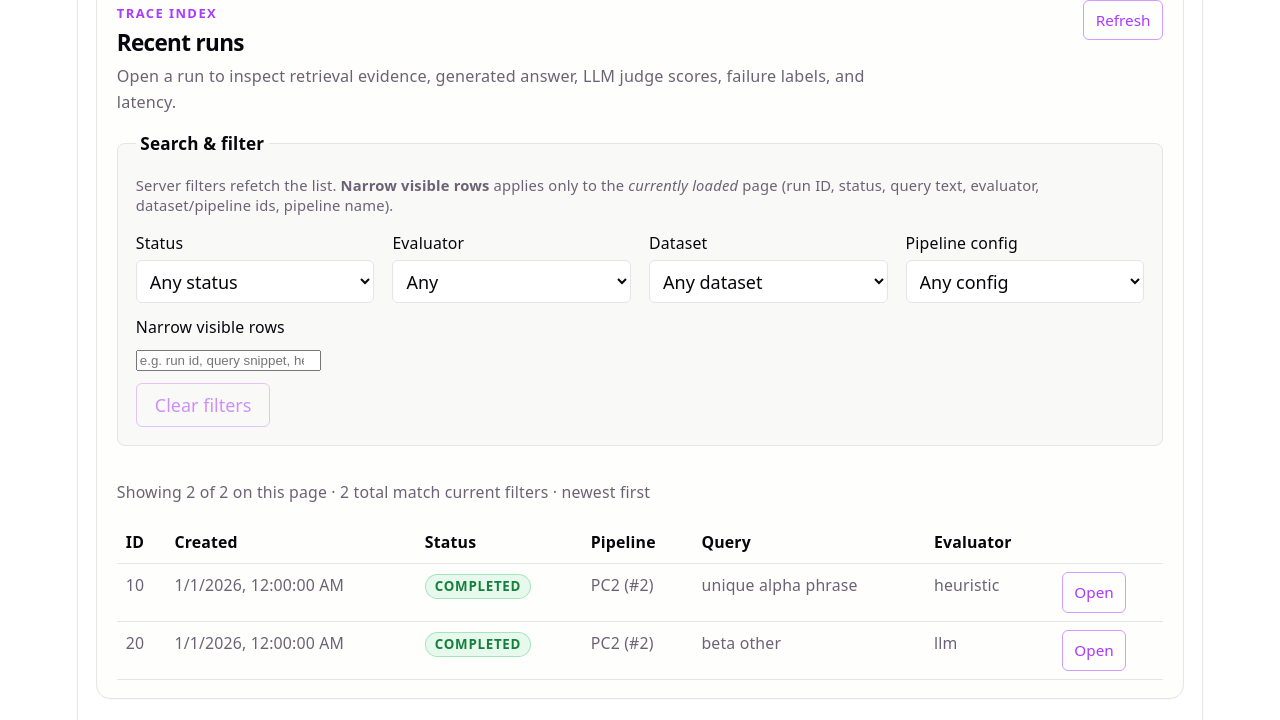
Scenario: runs list page filters › narrow input hides non-matching loaded rows
The width and height of the screenshot is (1280, 720).
(page scrolled)
Expected: the number of buttons "Open" is 2, [1062,572,1126,613]; [1062,630,1126,671]
Type "alpha" into the search field with test id "runs-filter-narrow" at (228, 360), box [136,350,321,371]
(page scrolled)
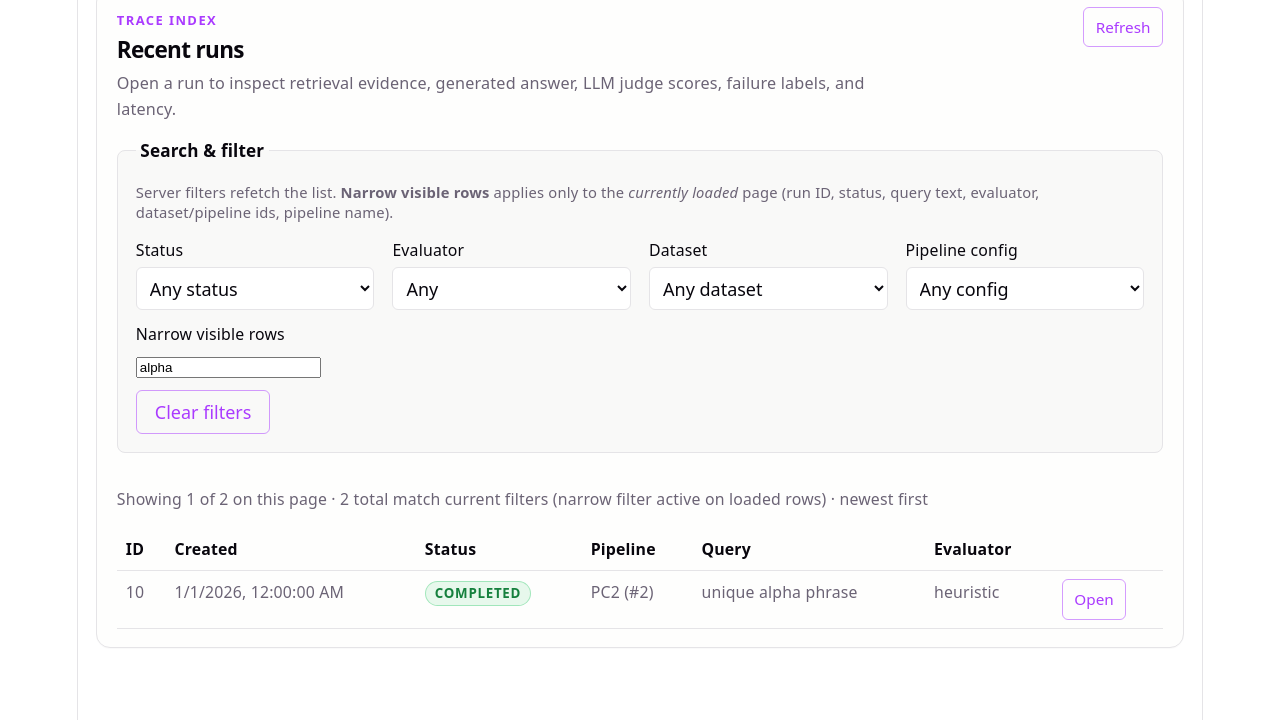
Result: the number of buttons "Open" is 1 at [1062,579,1126,620]
